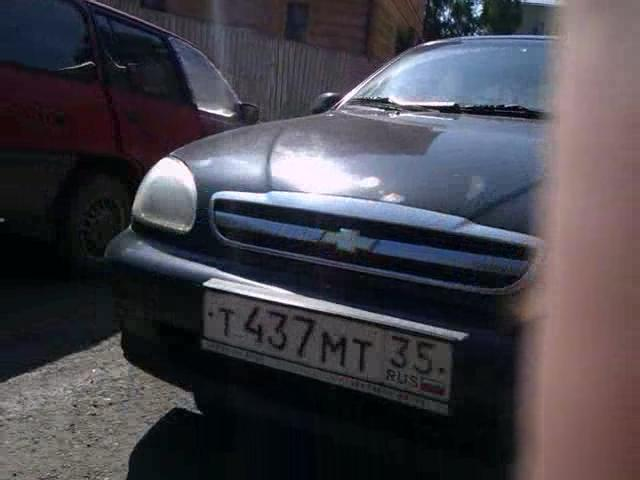car license plate: (203, 275, 458, 419)
